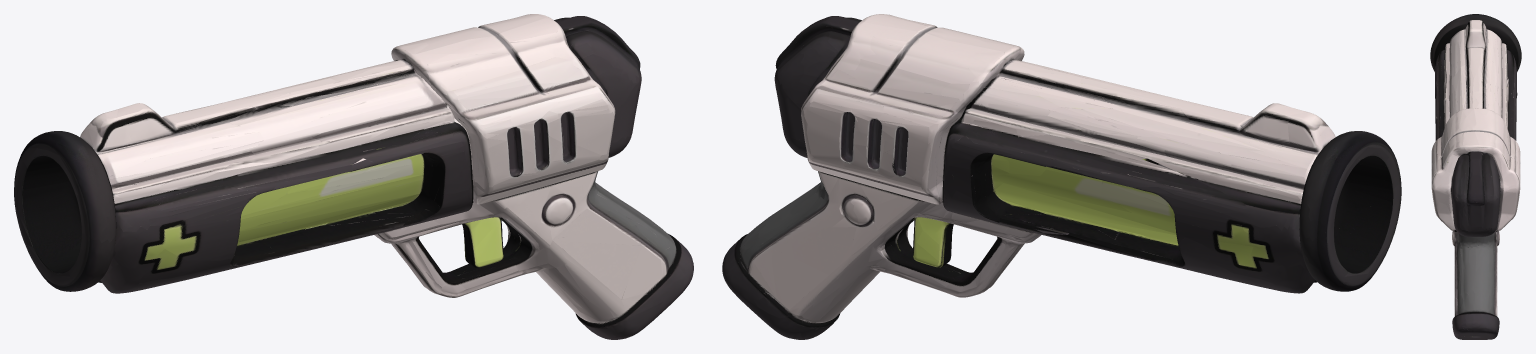
File: hilde-weapon.fbx
3 renders of one model, left to right at view 1: azimuth 30°, elevation 25°; view 2: azimuth 150°, elevation 25°; view 3: azimuth 270°, elevation 25°, orthographic. The views are drawn at different scales.
Parts seen in each view (by area): view 1: output_unwrapped; view 2: output_unwrapped; view 3: output_unwrapped.
Part boxes in pixels (left/top/right/bottom): output_unwrapped: left=14, top=14, right=693, bottom=339; output_unwrapped: left=722, top=14, right=1401, bottom=339; output_unwrapped: left=1430, top=14, right=1521, bottom=339.
Size of the model in its own units: 190 by 97.59 by 43.17.
1 material, 1 textured.
